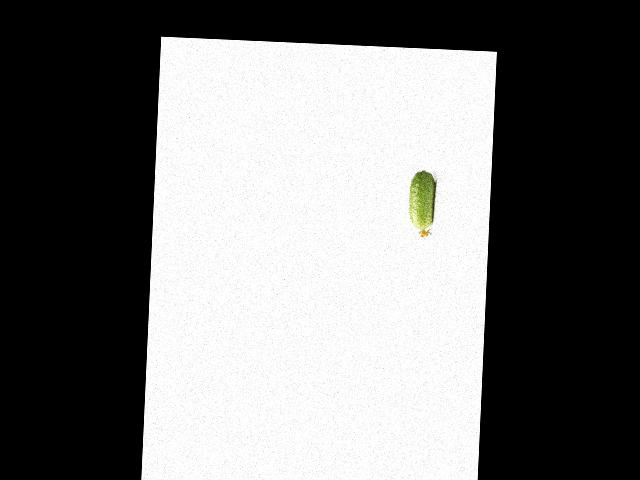cucumber: (407, 168, 436, 237)
